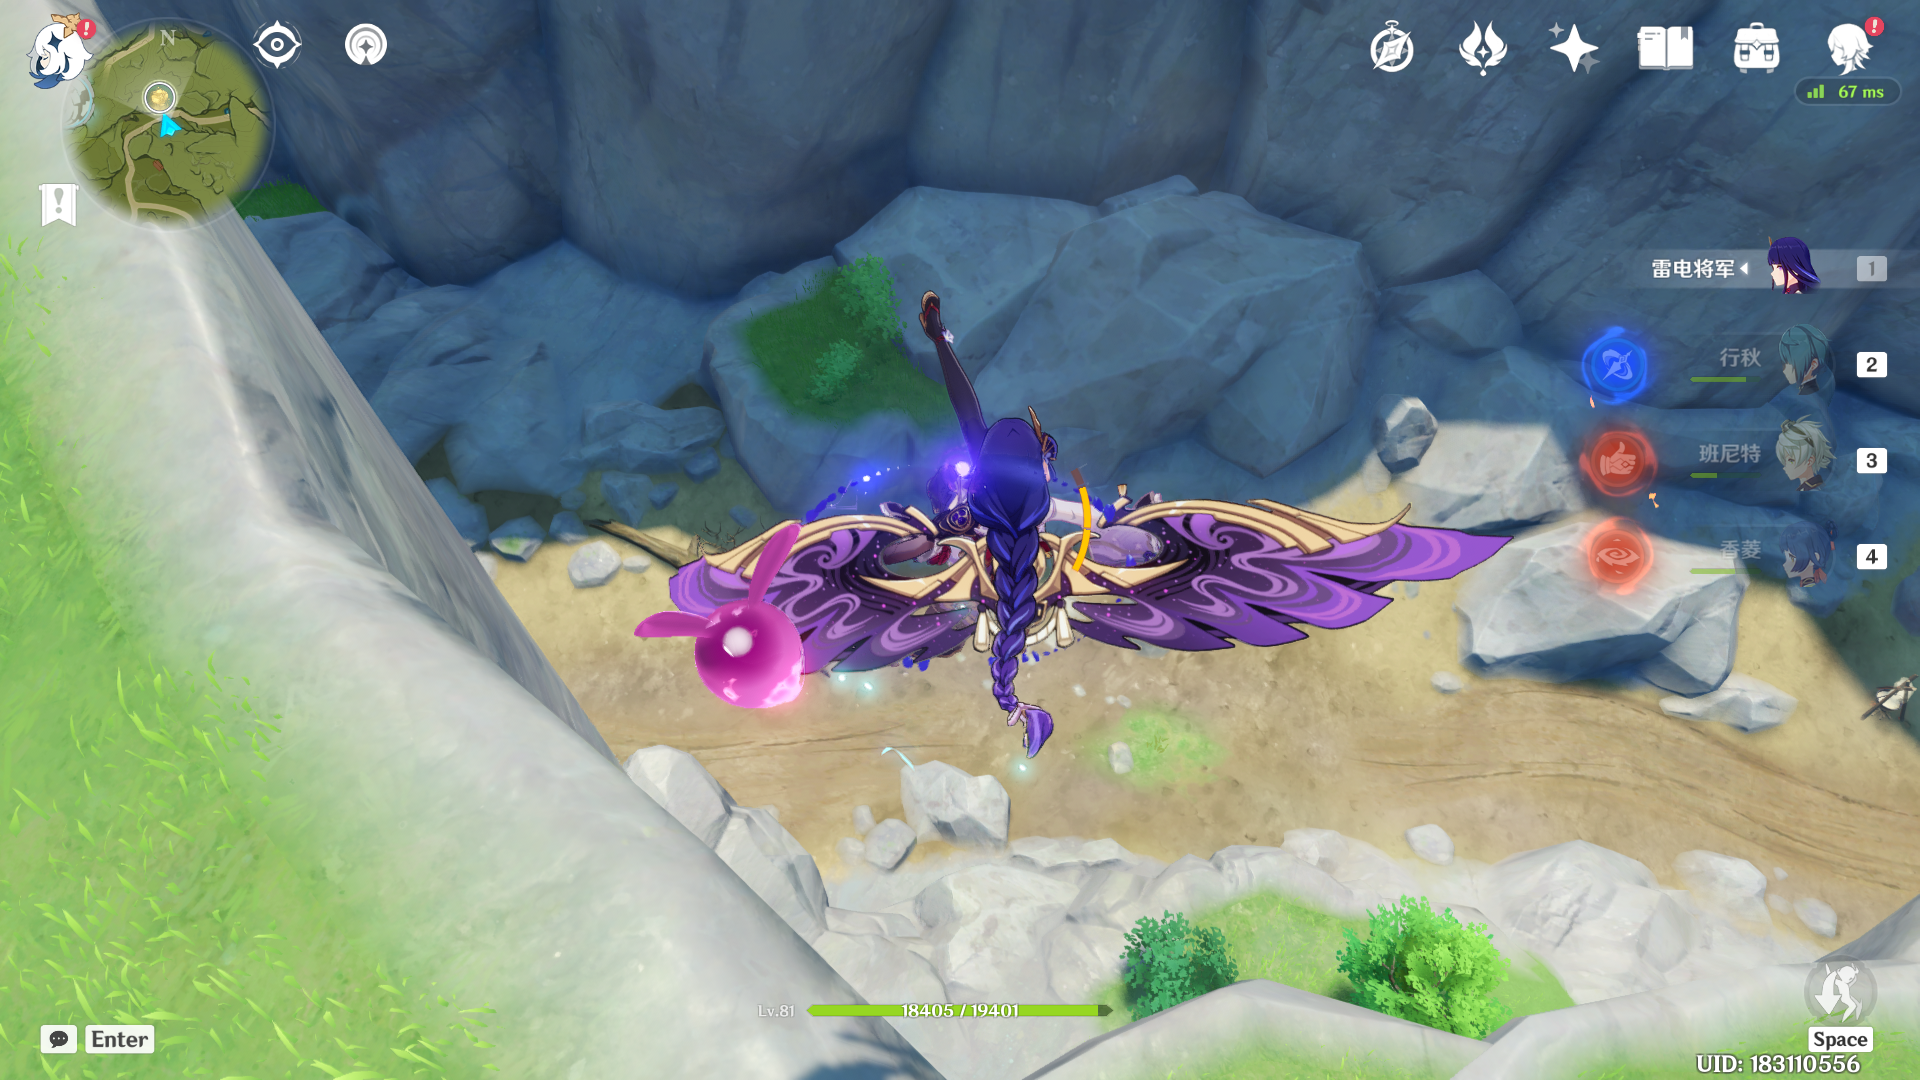character: (744, 349, 1220, 827)
